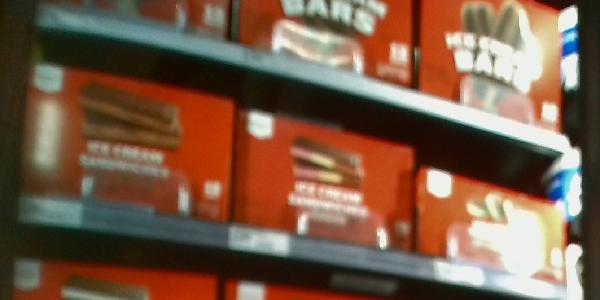icecream: (18, 62, 232, 224), (237, 108, 414, 255), (420, 167, 569, 281)
